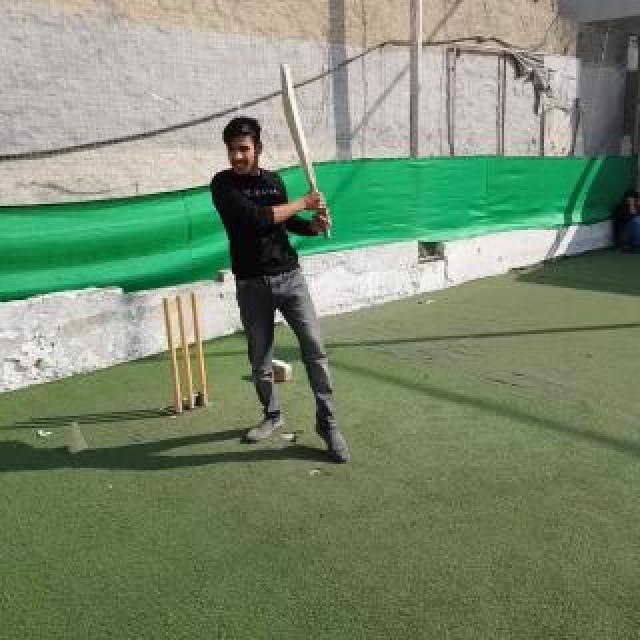bat: (280, 62, 332, 240)
